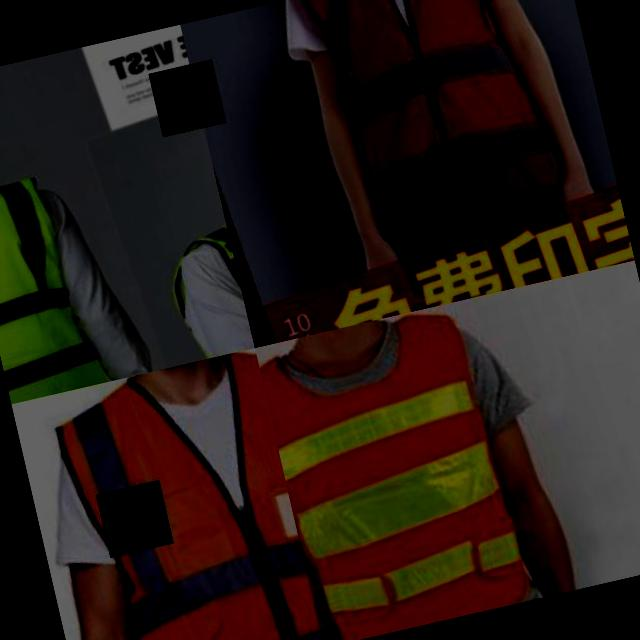vest: (254, 293, 556, 640), (37, 347, 324, 640), (274, 0, 567, 251), (0, 167, 107, 404)
